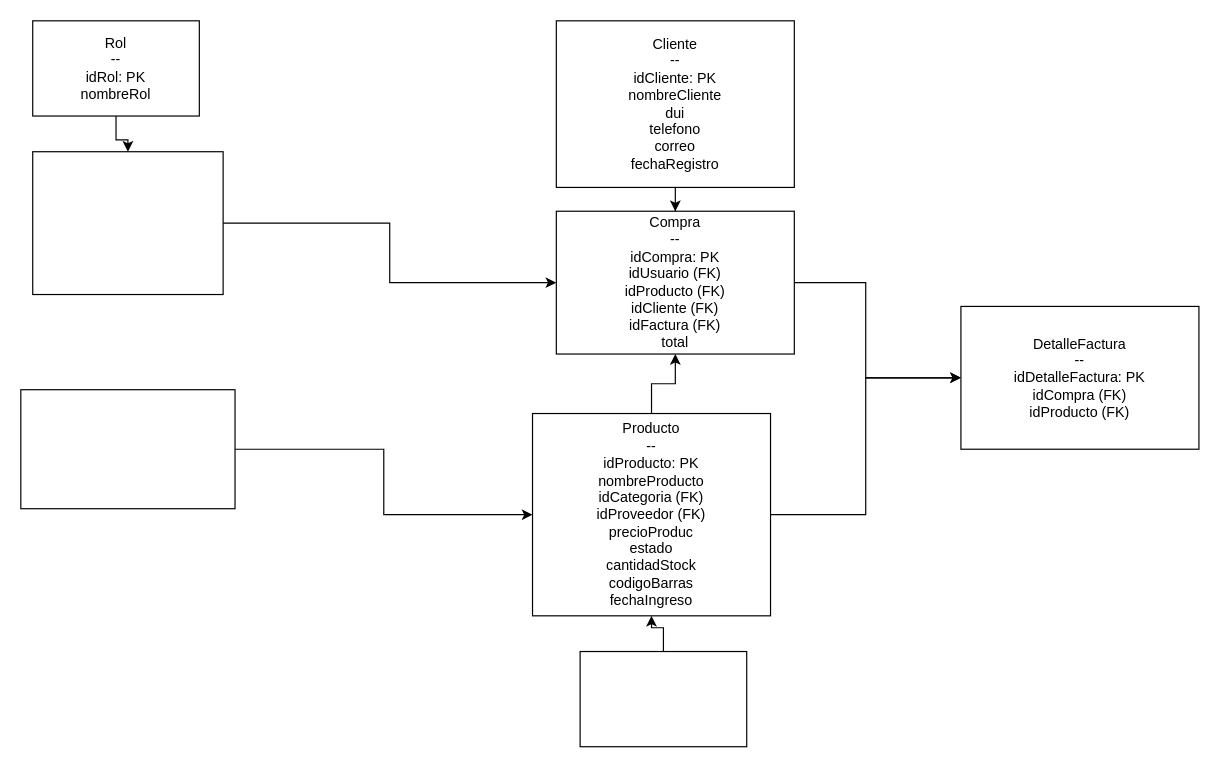
Some shapes in this 1220 by 768 pixel diagram are drawn without their labels. The shapes that lost their labels are listed below. From the top down, each one's centre as x and y in pixels, then its label:
the point at 127,223: Usuario -- idUsuario: PK idRol (FK) nombre clave correo telefono
the point at 127,449: Proveedor -- idProveedor: PK nombreProveedor nombreTrabajador telefono direccion
the point at 663,698: Categoria -- idCategoria: PK nombreCat
